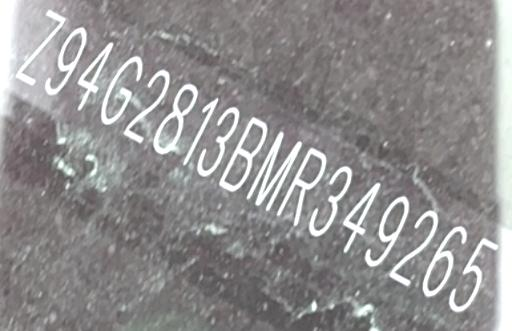letter: (247, 131, 301, 212), (18, 10, 70, 88), (118, 66, 170, 144), (278, 147, 328, 224), (70, 40, 122, 113), (42, 29, 96, 99), (449, 237, 499, 312), (361, 193, 411, 267), (336, 179, 384, 256), (390, 209, 438, 286), (218, 116, 268, 189), (102, 58, 154, 127), (306, 163, 352, 238), (422, 221, 468, 296), (154, 82, 198, 155), (198, 103, 240, 176), (180, 94, 220, 165)
